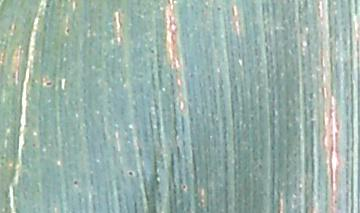tarspot: (44, 81, 54, 87), (127, 171, 136, 177), (64, 27, 71, 34), (72, 180, 79, 187), (181, 185, 188, 190), (217, 7, 222, 11)
